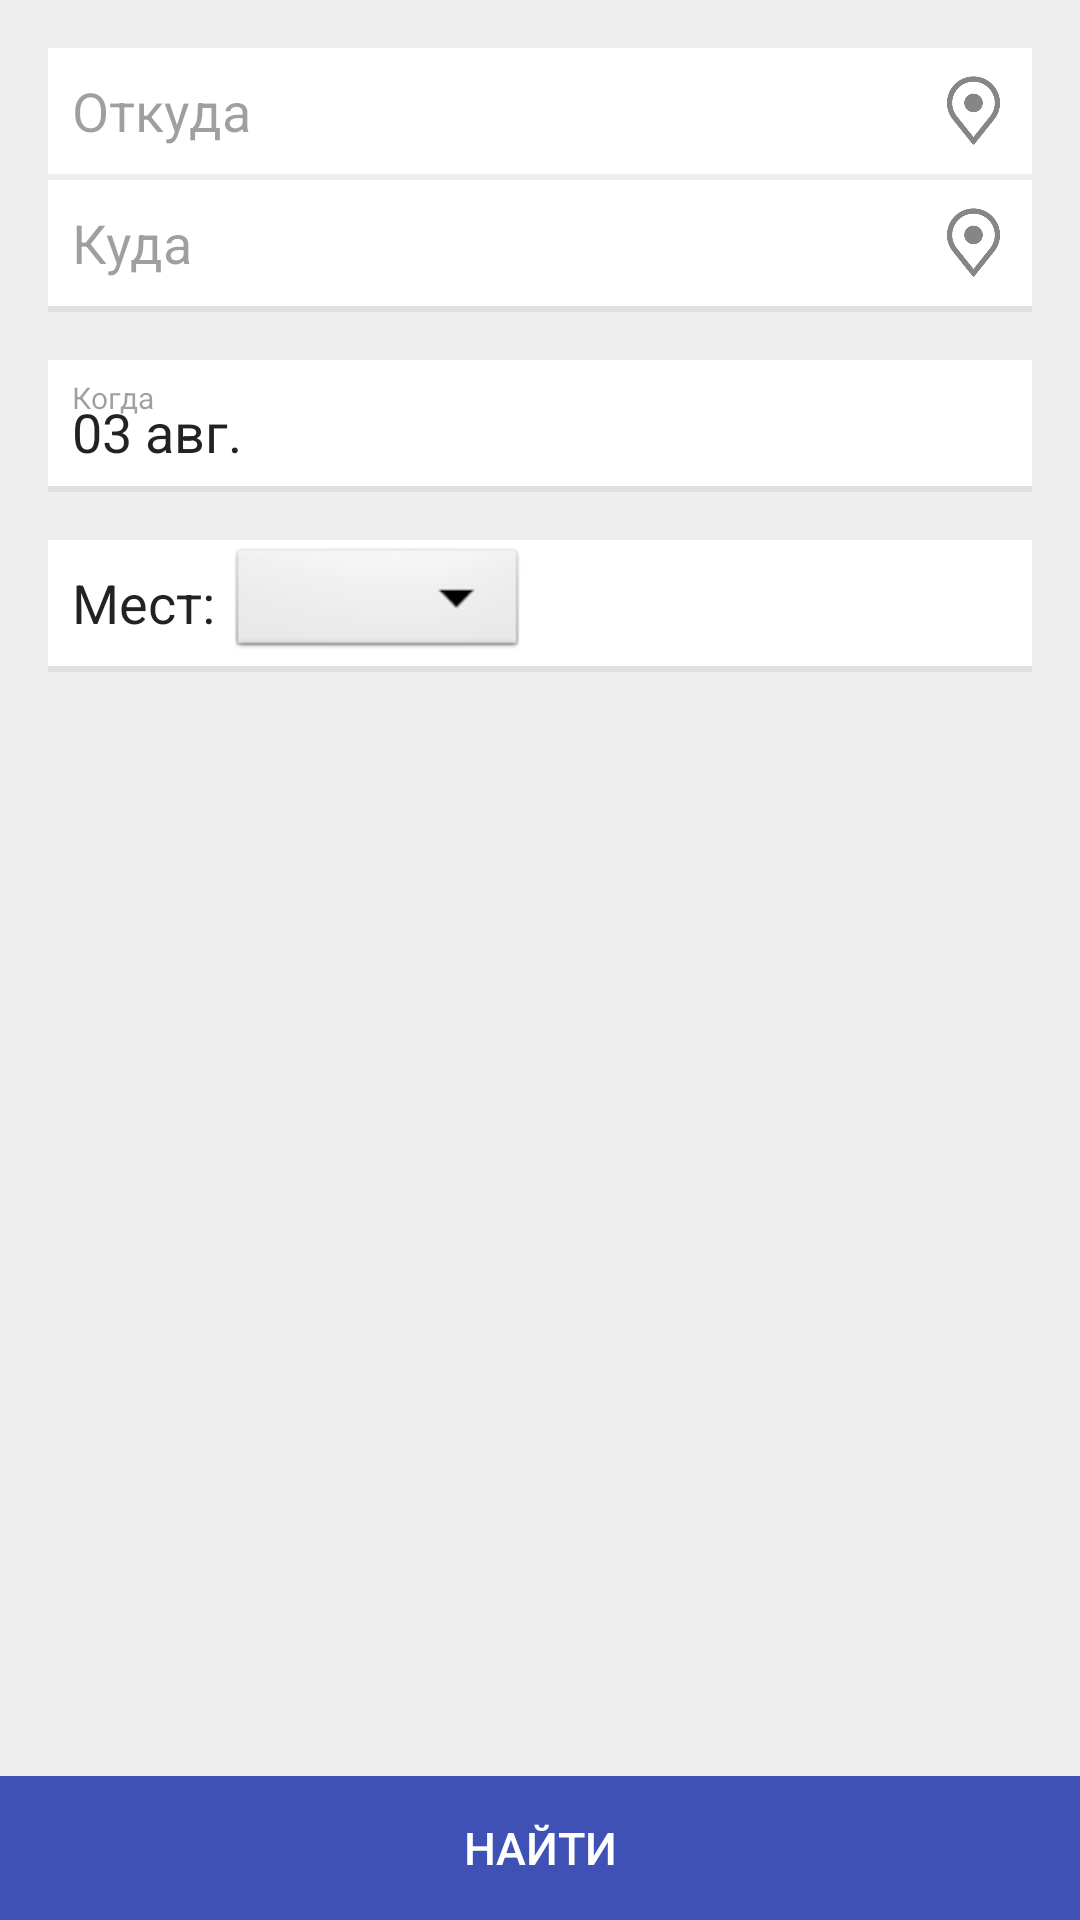

Named icons in this screenshot (1080 x 1920) and their bounding boxes, (left=x1, top=y1, right=x2, bottom=y2):
location: (left=947, top=76, right=1000, bottom=145), (left=947, top=208, right=1000, bottom=277)
